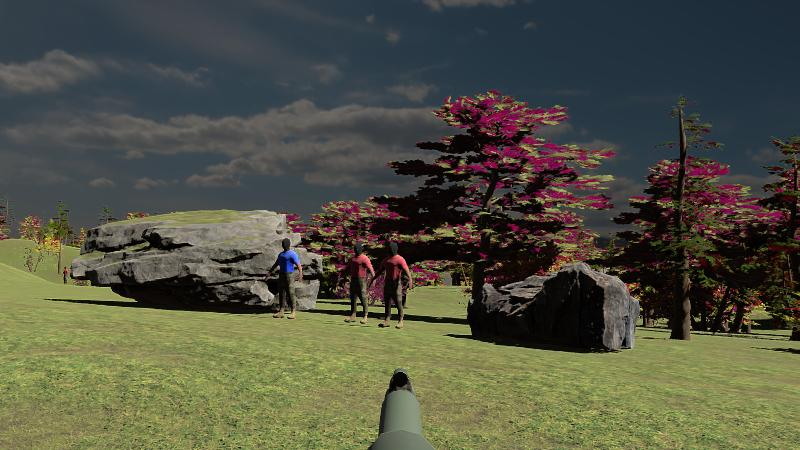Human: (374, 241, 412, 329), (270, 237, 303, 320), (343, 243, 376, 323)
